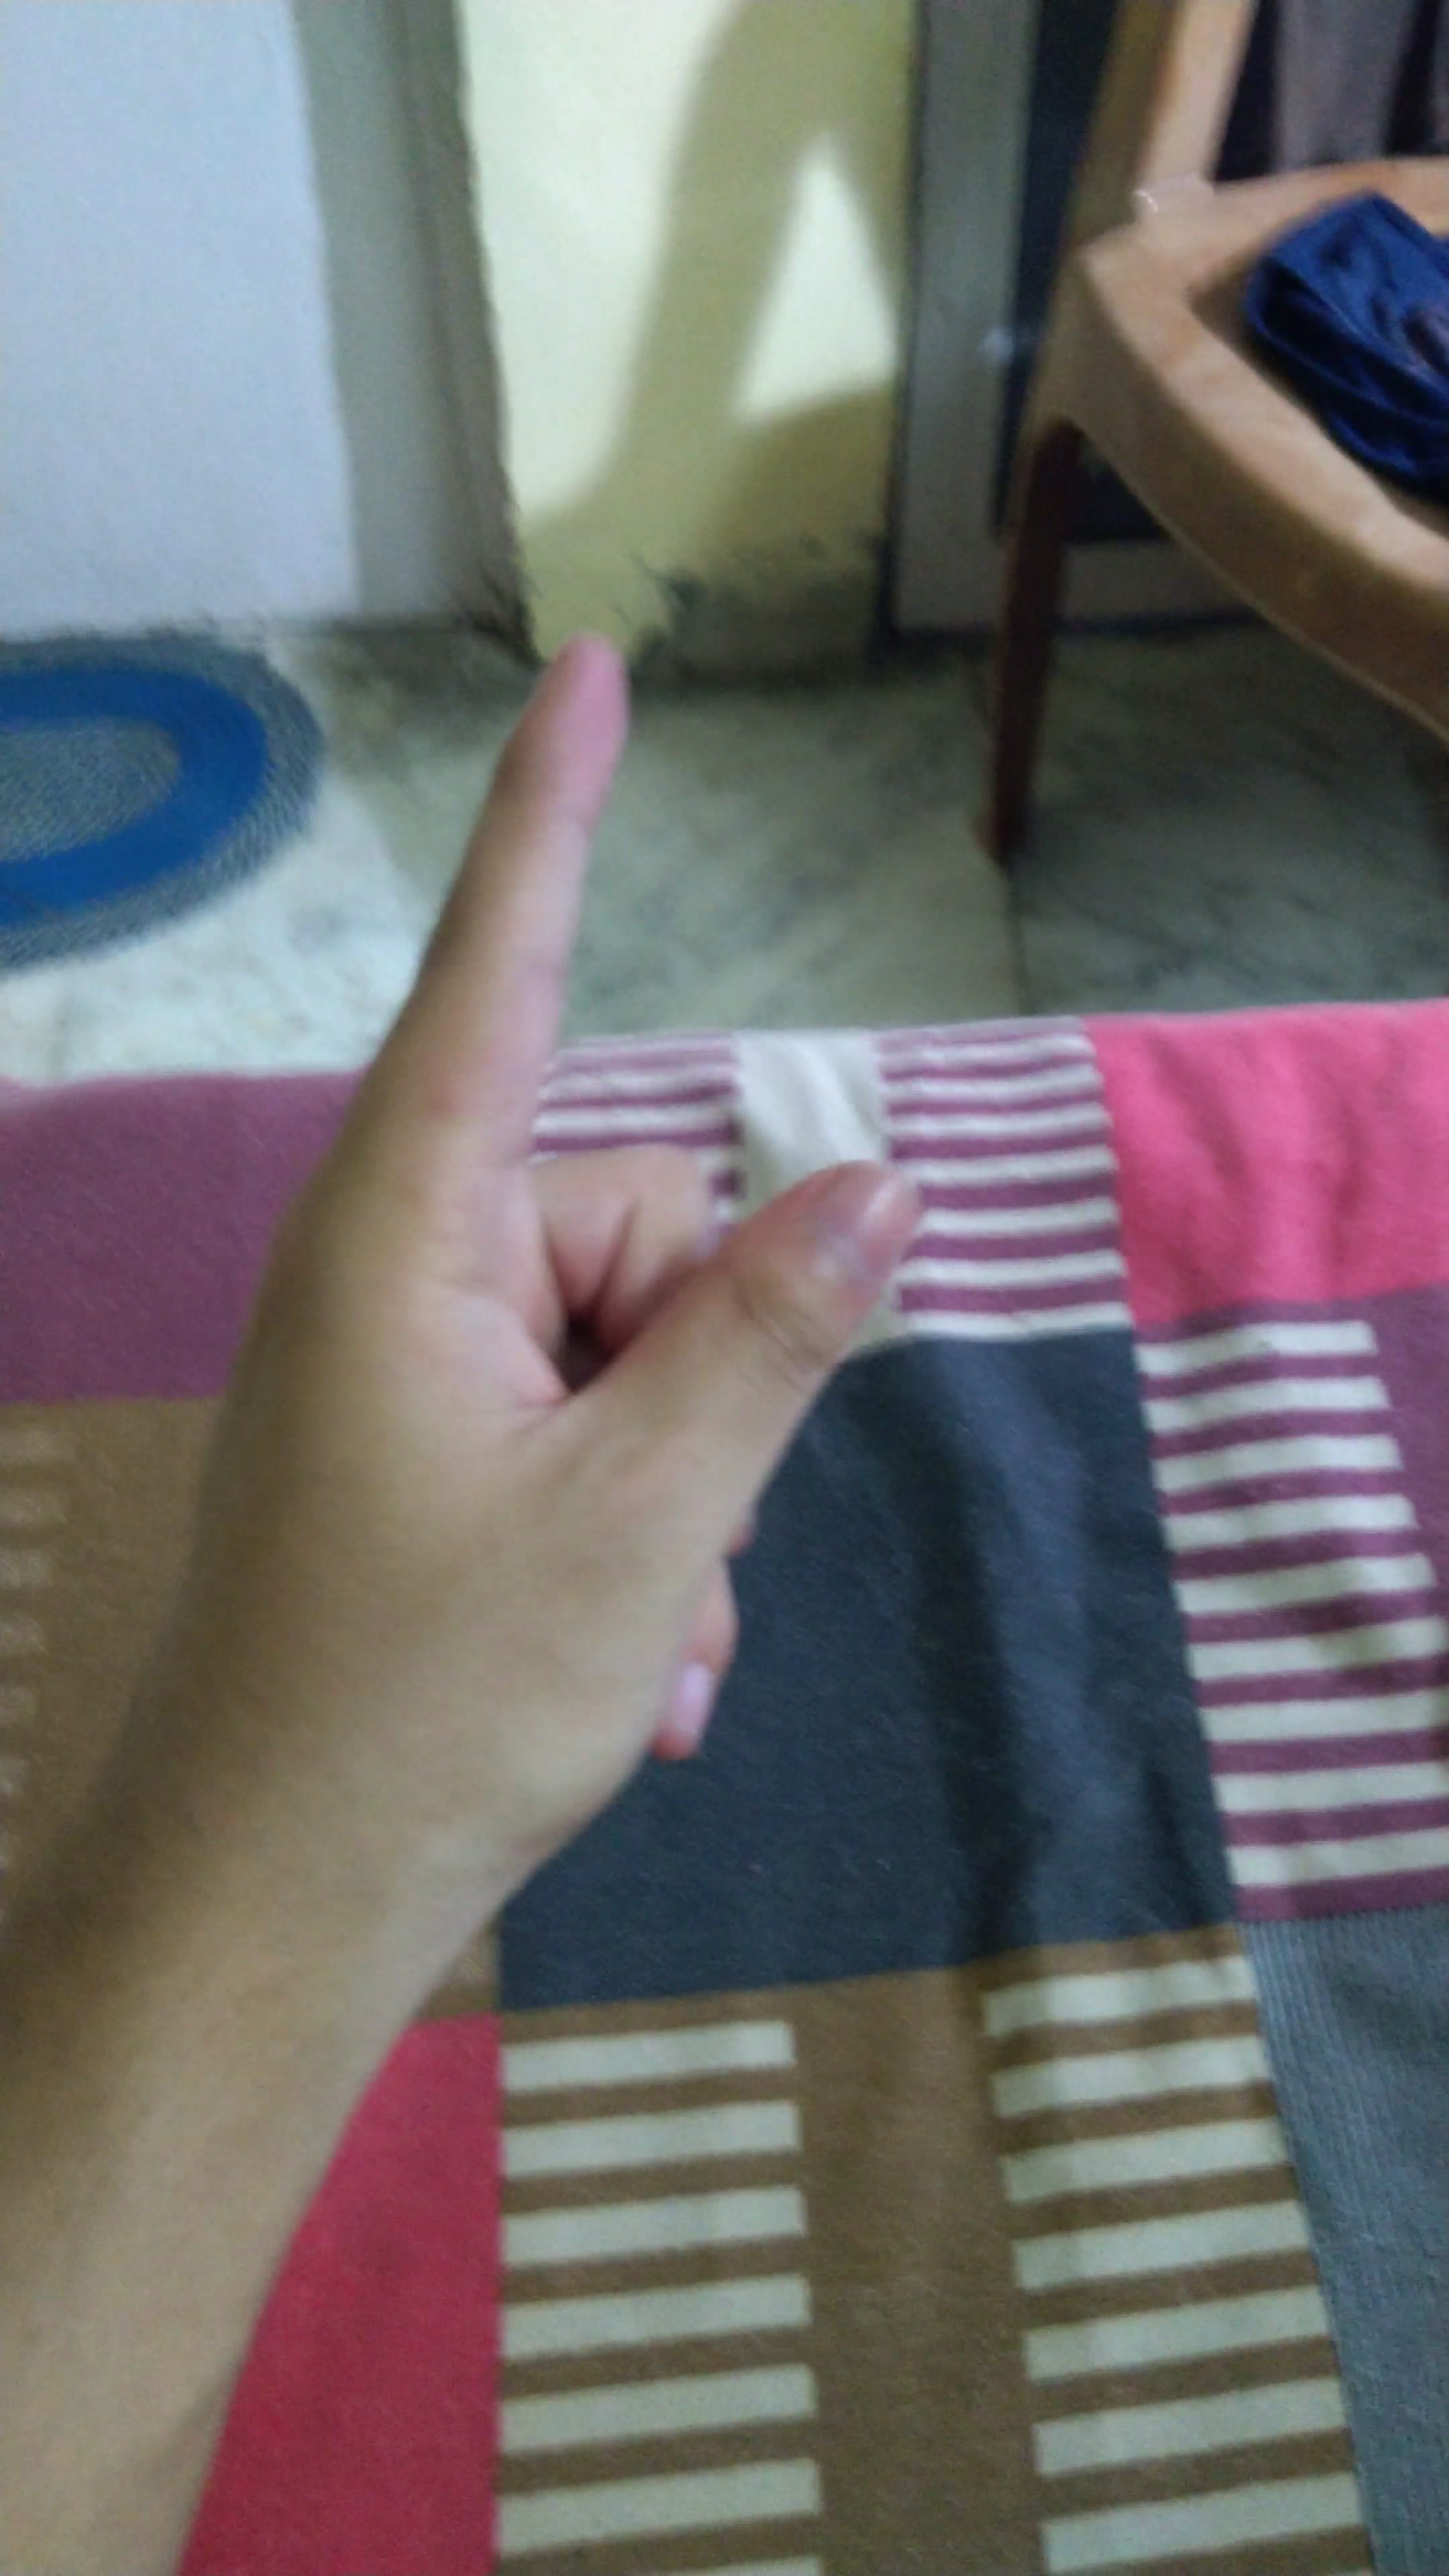hand: (124, 628, 936, 1909)
